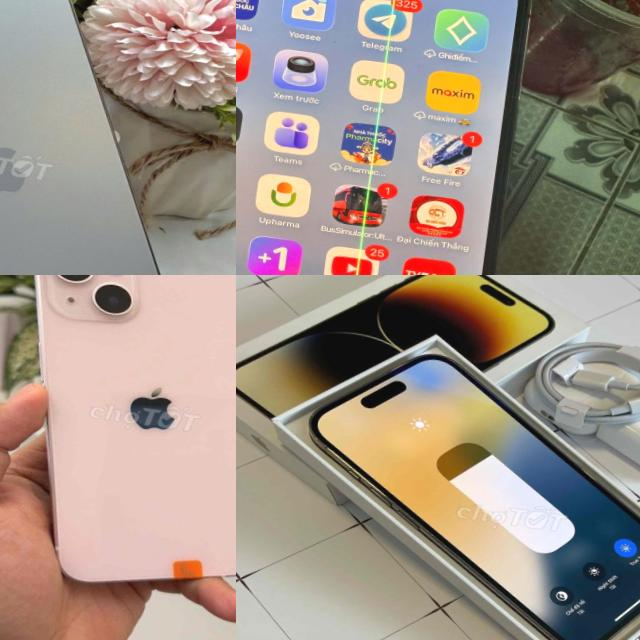screen_defect: (334, 124, 386, 275), (370, 0, 406, 124)
